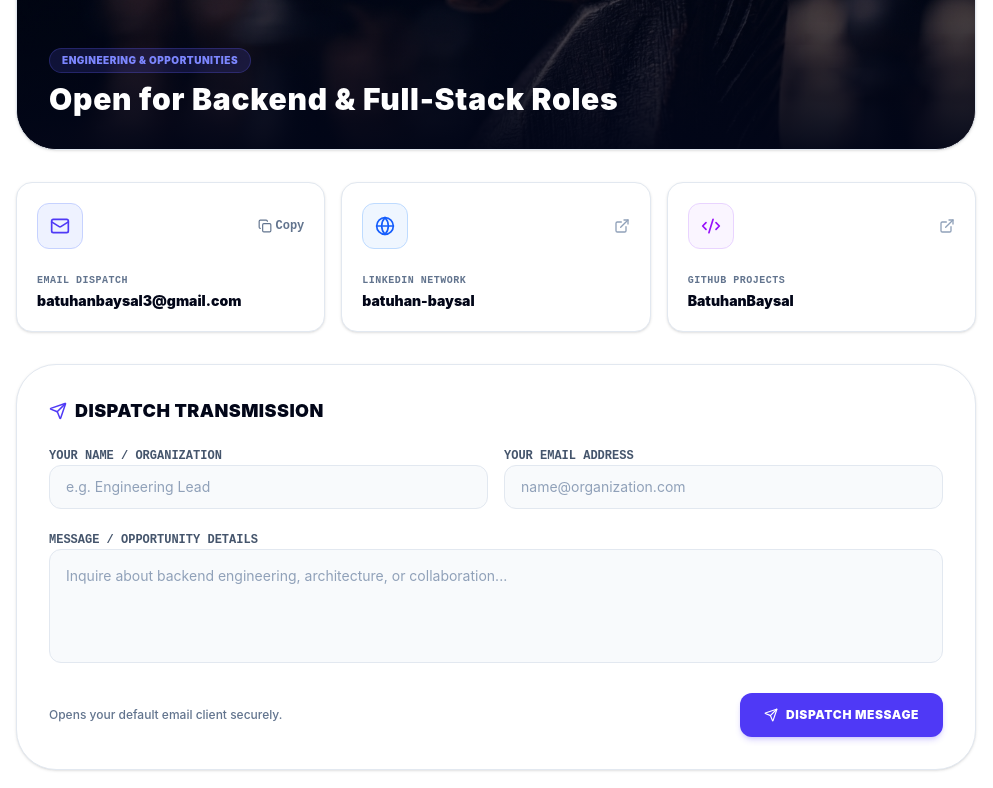
Contact Component › submits contact form and opens default mail client
(page scrolled)
Type "Tech Recruiter" into the field labelled "Your Name / Organization". click: (268, 487)
box: [49,465,488,509]
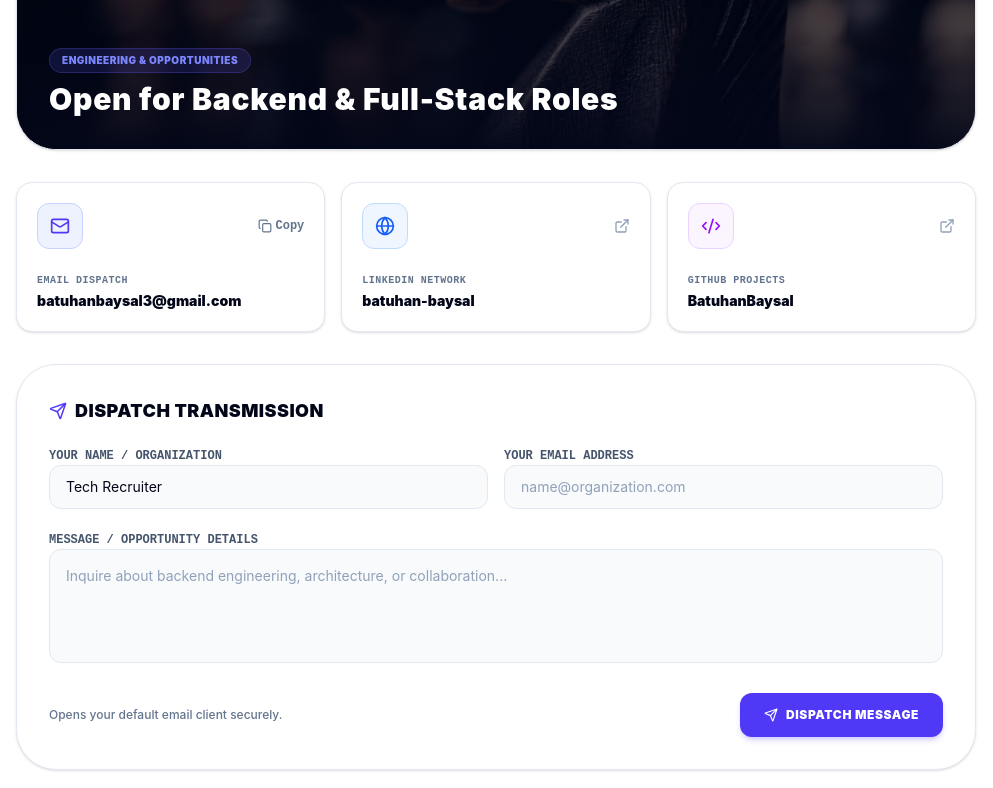
Type "recruiter@tech.com" into the field labelled "Your Email Address". click: (724, 487)
box: [504,465,943,509]
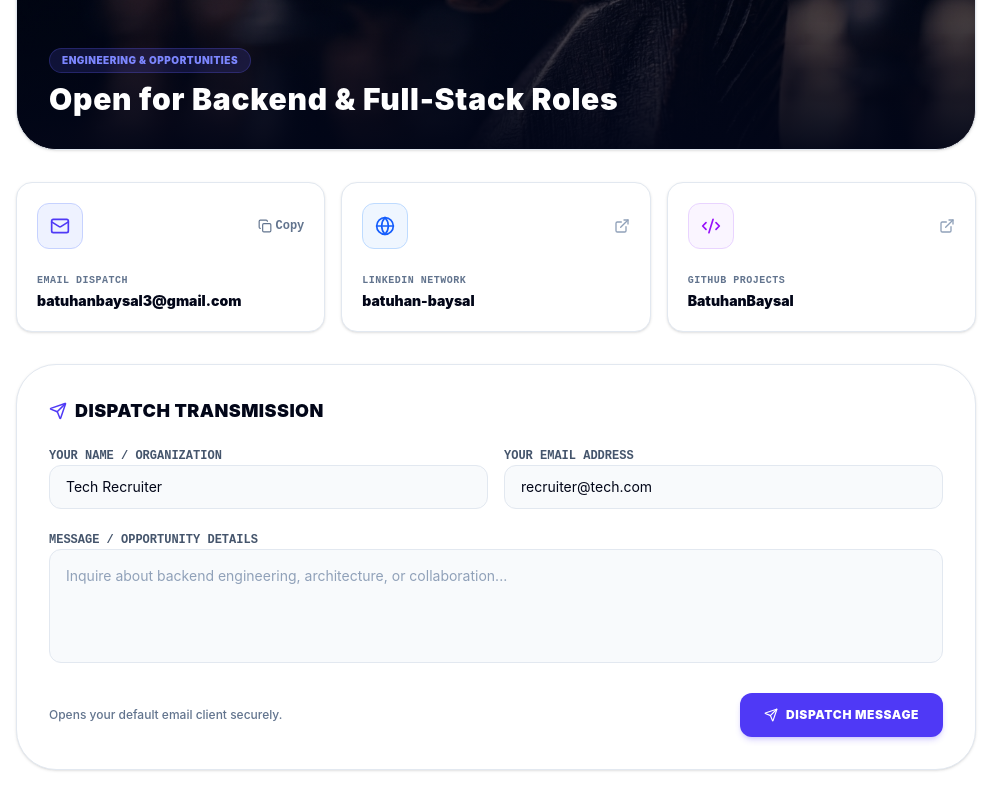
Replace the text in the text box labelled "Message / Opportunity Details" with "We are impressed with your chess platform.". click: (496, 606)
box: [49,549,943,663]
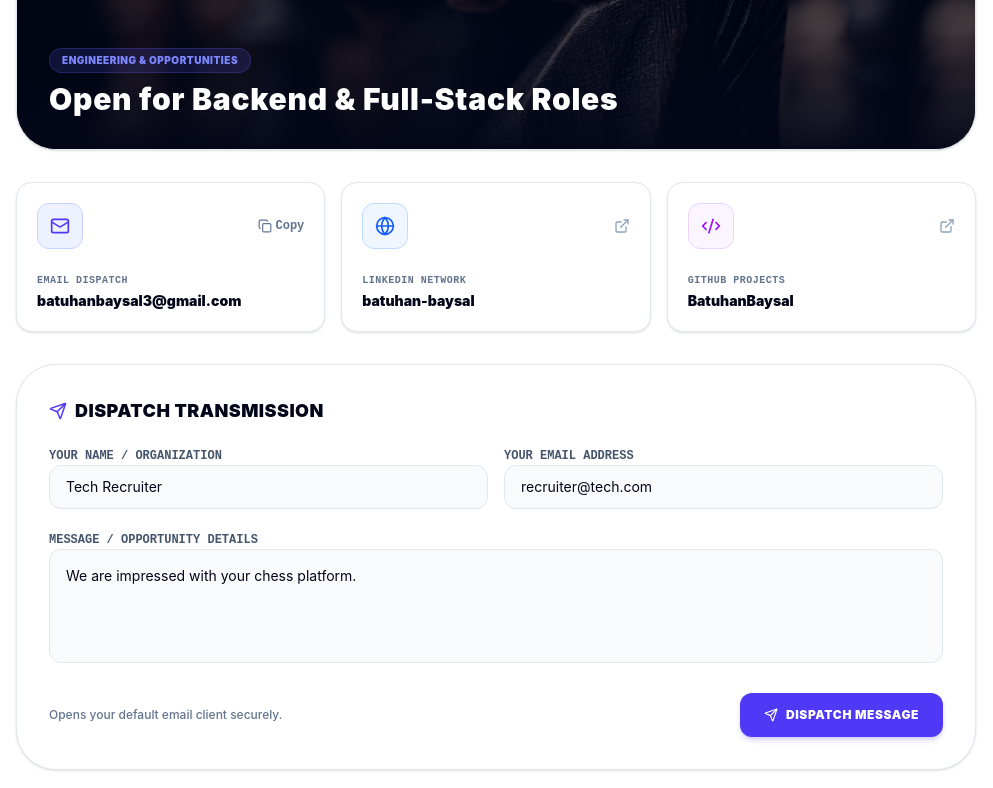
Click the button "Dispatch Message". click: click(842, 715)
box: [740,693,943,737]
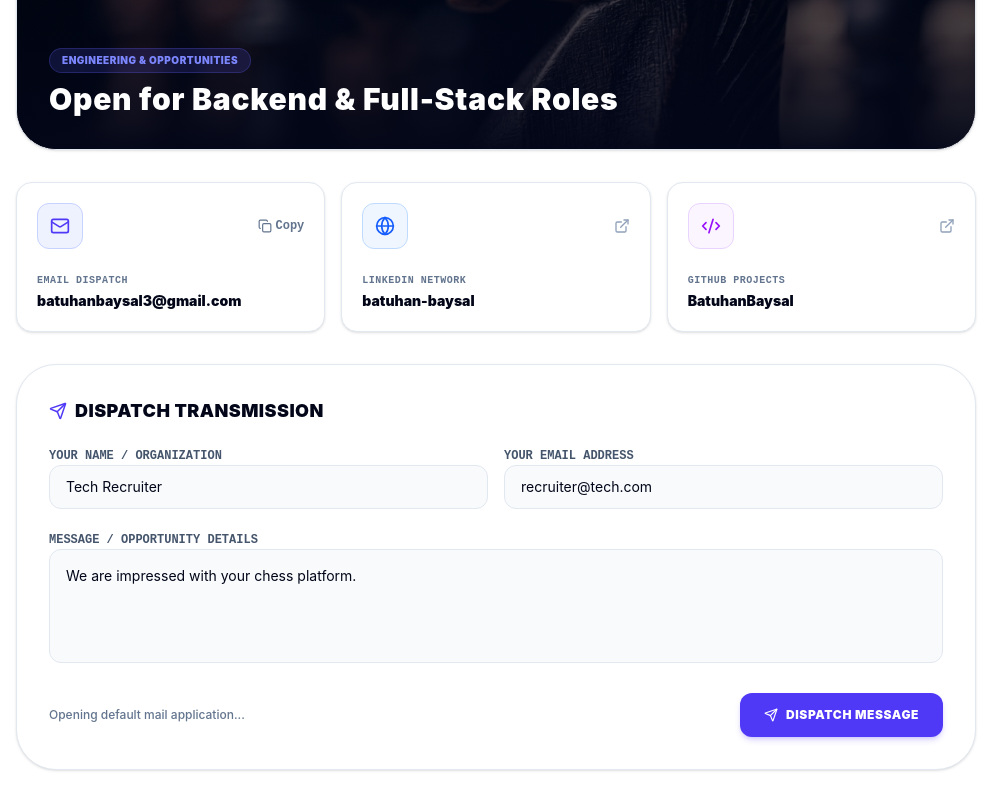
expect the text "Opening default mail application..." is shown: met, box [49,707,245,723]
